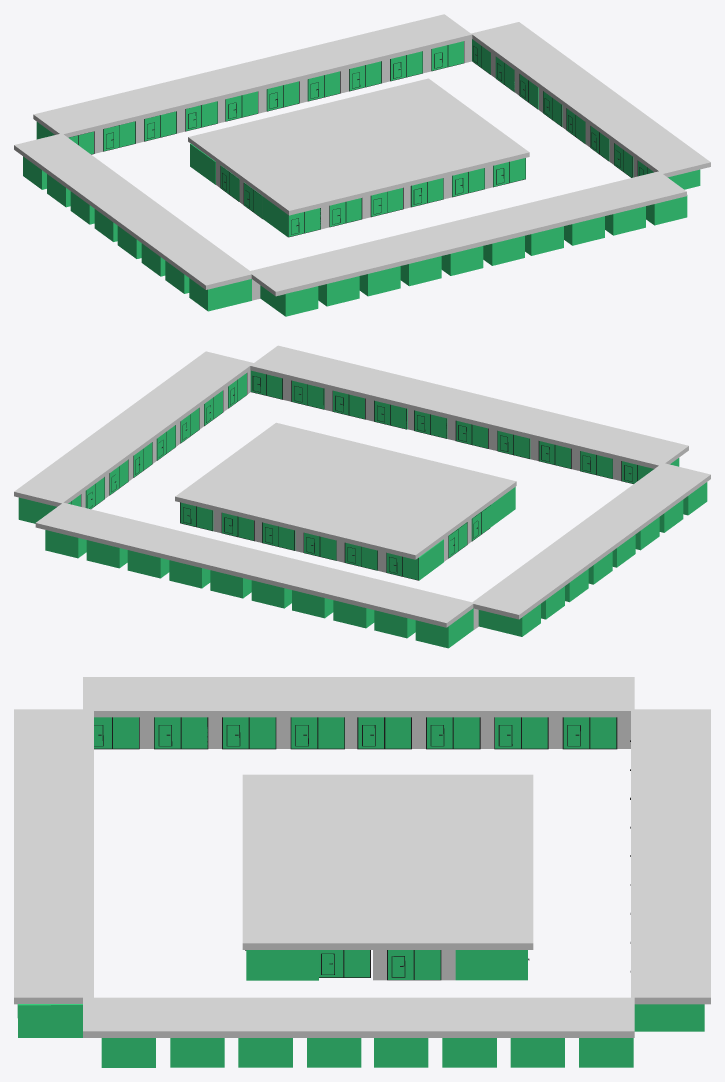
The model's file is Гараж.fbx.
3 views of the same model, one above another, from view 1: azimuth 30°, elevation 25°; view 2: azimuth 150°, elevation 25°; view 3: azimuth 270°, elevation 25° (orthographic). The views are drawn at different scales.
Visible parts, largest first — view 1: Куб.052, Куб.056, Куб.053, Куб.054, Куб.055, Куб.006, Куб.044, Куб.035, Куб.028, Куб.034, Куб.027, Куб.026 (+26 smaller); view 2: Куб.052, Куб.053, Куб.056, Куб.054, Куб.055, Куб.037, Куб.022, Куб.001, Куб.017, Куб.024, Куб.025, Куб.016 (+26 smaller); view 3: Куб.052, Куб.053, Куб.056, Куб.055, Куб.054, Куб.040, Куб.045, Куб.032, Куб.025, Куб.001, Куб, Куб.002 (+15 smaller).
Part boxes in pixels (left/top/right/bottom): Куб.052: left=188, top=78, right=529, bottom=215; Куб.056: left=250, top=171, right=686, bottom=296; Куб.053: left=33, top=14, right=472, bottom=137; Куб.054: left=14, top=134, right=253, bottom=289; Куб.055: left=471, top=22, right=710, bottom=177; Куб.006: left=189, top=278, right=251, bottom=311; Куб.044: left=263, top=197, right=320, bottom=237; Куб.035: left=260, top=285, right=318, bottom=316; Куб.028: left=441, top=246, right=483, bottom=275; Куб.034: left=318, top=276, right=359, bottom=306; Куб.027: left=359, top=266, right=400, bottom=296; Куб.026: left=400, top=256, right=441, bottom=286; Куб.052: left=175, top=422, right=516, bottom=559; Куб.053: left=35, top=502, right=473, bottom=627; Куб.056: left=250, top=345, right=688, bottom=468; Куб.054: left=473, top=463, right=710, bottom=619; Куб.055: left=14, top=351, right=253, bottom=506; Куб.037: left=386, top=539, right=443, bottom=580; Куб.022: left=415, top=608, right=473, bottom=648; Куб.001: left=478, top=604, right=540, bottom=636; Куб.017: left=127, top=550, right=169, bottom=578; Куб.024: left=86, top=540, right=127, bottom=568; Куб.025: left=45, top=530, right=86, bottom=558; Куб.016: left=169, top=560, right=210, bottom=588; Куб.052: left=242, top=774, right=533, bottom=949; Куб.053: left=631, top=709, right=710, bottom=1004; Куб.056: left=14, top=709, right=93, bottom=1004; Куб.055: left=83, top=997, right=634, bottom=1037; Куб.054: left=83, top=677, right=634, bottom=717; Куб.040: left=455, top=950, right=529, bottom=980; Куб.045: left=245, top=950, right=318, bottom=980; Куб.032: left=17, top=1004, right=82, bottom=1037; Куб.025: left=634, top=1004, right=704, bottom=1031; Куб.001: left=562, top=717, right=617, bottom=749; Куб: left=494, top=717, right=548, bottom=749; Куб.002: left=357, top=717, right=411, bottom=749.
Size of the model in its own units: 23100 by 1198 by 19204.
